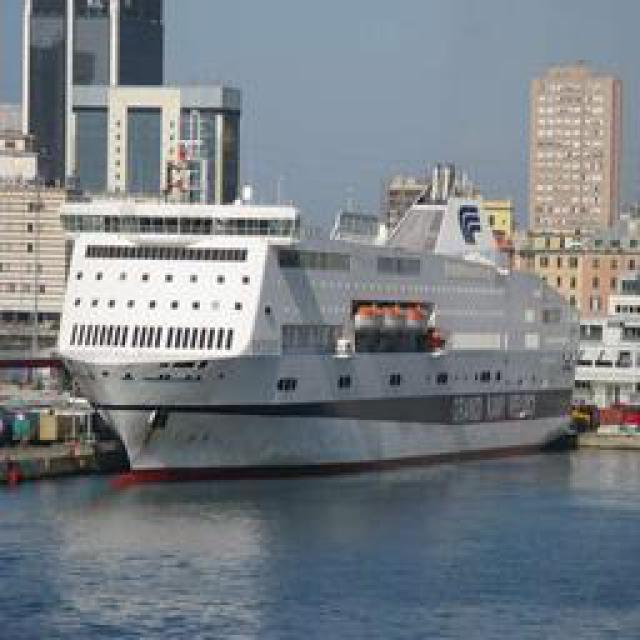Ship: (65, 159, 583, 482)
